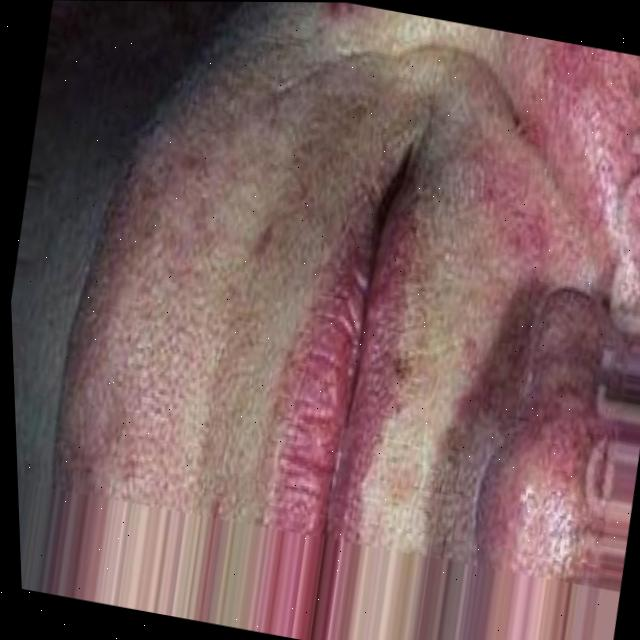Rosacea: (445, 27, 640, 287), (463, 343, 614, 588)
